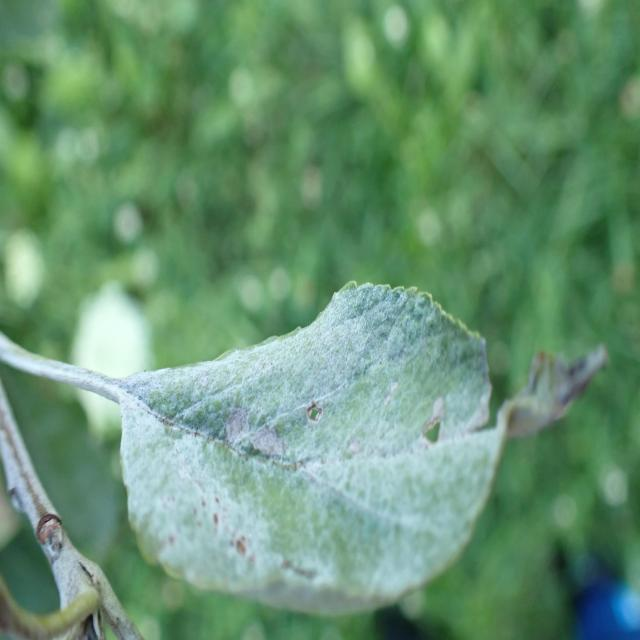Powdery_mildew: (103, 261, 536, 628)
